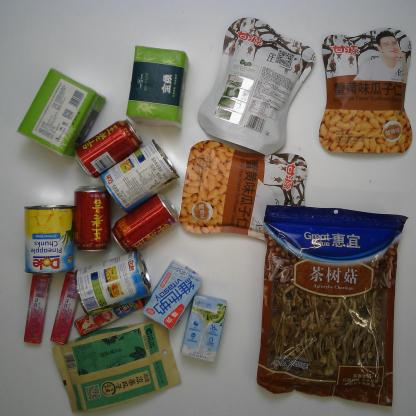Candy: (74, 296, 145, 338), (49, 271, 80, 346), (22, 272, 52, 345)
Canned Food: (98, 138, 181, 216), (72, 248, 153, 316), (22, 204, 74, 275)
Dried Food: (254, 202, 411, 408), (48, 319, 183, 415)
Dried Fruit: (196, 15, 316, 159), (178, 138, 308, 246), (317, 27, 416, 156)
Drink: (110, 190, 183, 256), (72, 118, 144, 180), (73, 185, 114, 254)
Milk: (142, 259, 203, 331), (180, 292, 228, 364)
Tissue: (15, 66, 108, 160), (124, 44, 190, 130)
